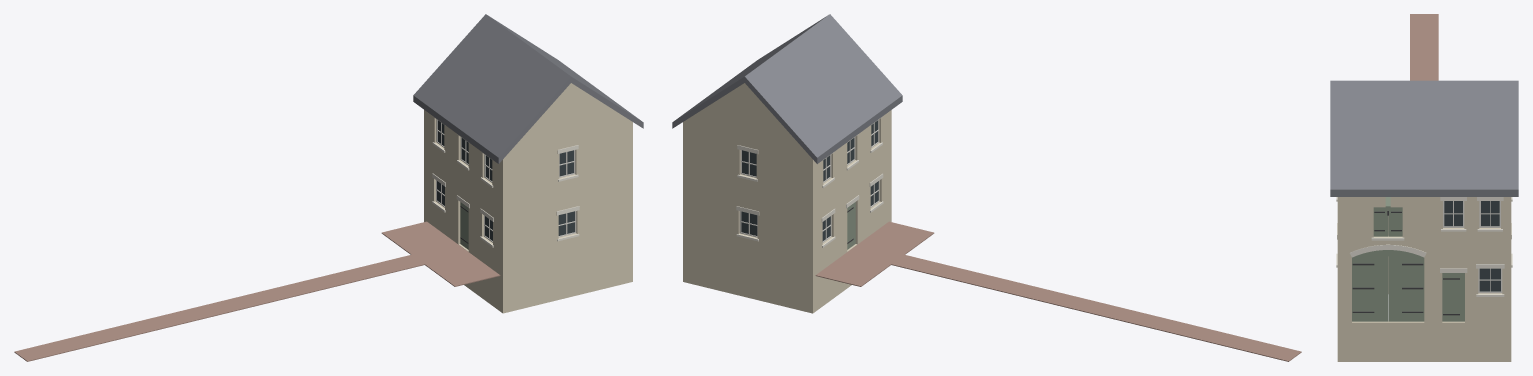
Rendered from house_2125_prairie_coach_house__as_standing_1904.glb.
The picture shows the model from 3 angles, left to right: view 1: azimuth 30°, elevation 25°; view 2: azimuth 150°, elevation 25°; view 3: azimuth 270°, elevation 25°; orthographic projection. The views are drawn at different scales.
Visible parts, largest first — view 1: house_2125_prairie_coach_house__as_standing_1904; view 2: house_2125_prairie_coach_house__as_standing_1904; view 3: house_2125_prairie_coach_house__as_standing_1904.
Part boxes in pixels (x1,y1,x2,y2): house_2125_prairie_coach_house__as_standing_1904: (14, 14, 643, 361); house_2125_prairie_coach_house__as_standing_1904: (672, 14, 1301, 361); house_2125_prairie_coach_house__as_standing_1904: (1330, 14, 1518, 361).
Bounding box in the file's own units: 31.2 × 11.31 × 7.82.
